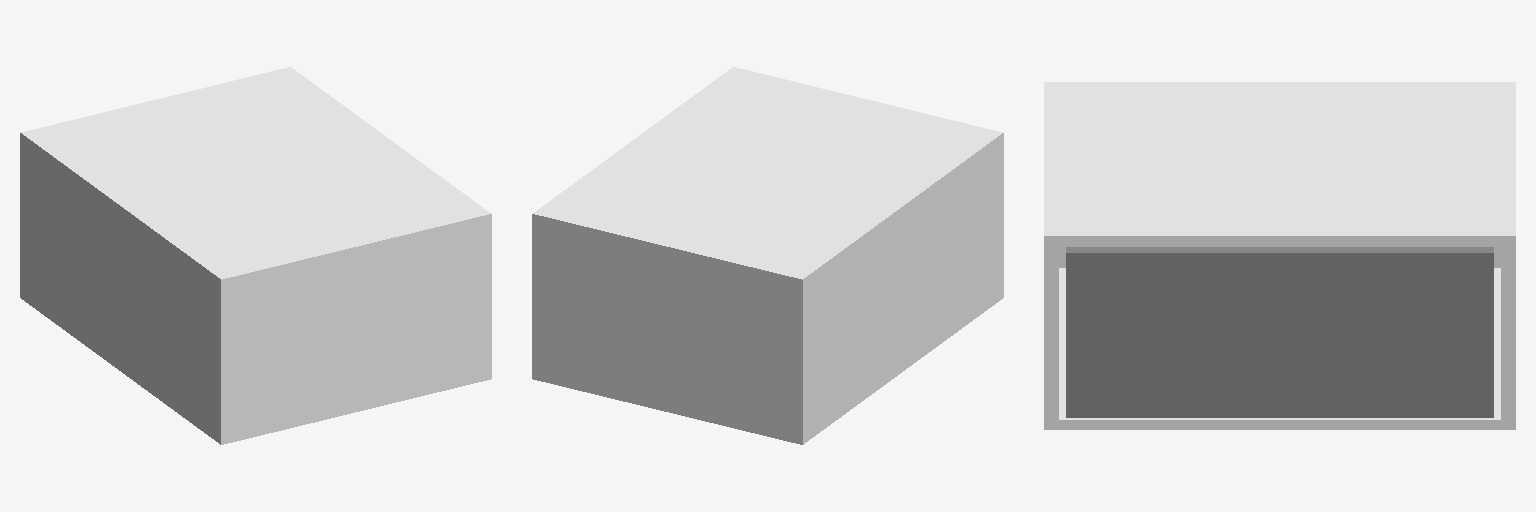
robot.urdf — drawer:
<?xml version='1.0' encoding='UTF-8'?>
<!-- =================================================================================== -->
<!-- |    This document was autogenerated by xacro from drawer_one_sided_handle.xacro  | -->
<!-- |    EDITING THIS FILE BY HAND IS NOT RECOMMENDED                                 | -->
<!-- =================================================================================== -->
<robot xmlns:xacro="http://ros.org/wiki/xacro" name="drawer">
  <!-- Scaled non-uniformly with factors x=0.3, y=0.6, z=0.5; box sizes, origins, prismatic travel, masses, and inertias updated. --><material name="omni/Blue">
    <color rgba="0 0 0.8 1"/>
  </material>
  <material name="omni/Red">
    <color rgba="1 0 0 1"/>
  </material>
  <material name="omni/White">
    <color rgba="1 1 1 1"/>
  </material>
  <material name="omni/Green">
    <color rgba="0 1 0 1"/>
  </material>
  <material name="omni/Yellow">
    <color rgba="1 1 0 1"/>
  </material>
  <material name="omni/LightGrey">
    <color rgba="0.6 0.6 0.6 1"/>
  </material>
  <material name="omni/DarkGrey">
    <color rgba="0.4 0.4 0.4 1"/>
  </material>
  <link name="base_link">    
    </link>
  <link name="drawer">
    <!-- Bottom wall -->
    <visual>
      <origin rpy="0 0 0" xyz="0 0 -0.065"/>
      <geometry>
        <box size="0.3 0.36 0.025"/> 
      </geometry>
      <material name="omni/LightGrey"/>
    </visual>
    <collision>
      <origin rpy="0 0 0" xyz="0 0 -0.065"/>
      <geometry>
        <box size="0.3 0.36 0.025"/>
      </geometry>
    </collision>
    <!-- Right wall -->
    <visual>
      <origin rpy="0 0 0" xyz="0 0.165 0.01125"/>
      <geometry>
        <box size="0.3 0.03 0.1275"/>
      </geometry>
      <material name="omni/LightGrey"/>
    </visual>
    <collision>
      <origin rpy="0 0 0" xyz="0 0.165 0.01125"/>
      <geometry>
        <box size="0.3 0.03 0.1275"/>
      </geometry>
    </collision>
    <!-- Left wall -->
    <visual>
      <origin rpy="0 0 0" xyz="0 -0.165 0.01125"/>
      <geometry>
        <box size="0.3 0.03 0.1275"/>
      </geometry>
      <material name="omni/LightGrey"/>
    </visual>
    <collision>
      <origin rpy="0 0 0" xyz="0 -0.165 0.01125"/>
      <geometry>
        <box size="0.3 0.03 0.1275"/>
      </geometry>
    </collision>
    <!-- Back wall -->
    <visual>
      <origin rpy="0 0 0" xyz="-0.1425 0 0.01125"/>
      <geometry>
        <box size="0.015 0.3 0.1275"/> 
      </geometry>
      <material name="omni/LightGrey"/>
    </visual>
    <collision>
      <origin rpy="0 0 0" xyz="-0.1425 0 0.01125"/>
      <geometry>
        <box size="0.015 0.3 0.1275"/> 
      </geometry>
    </collision>
    <!-- Front wall -->
    <visual>
      <origin rpy="0 0 0" xyz="0.1425 0 0.01125"/>
      <geometry>
        <box size="0.015 0.3 0.1275"/> 
      </geometry>
      <material name="omni/LightGrey"/>
    </visual>
    <collision>
      <origin rpy="0 0 0" xyz="0.1425 0 0.01125"/>
      <geometry>
        <box size="0.015 0.3 0.1275"/> 
      </geometry>
    </collision>
    <inertial>
      <origin rpy="0 0 0" xyz="0 0 0"/>
      <mass value="0.4500"/>
      <inertia ixx="0.0085763427" ixy="0.0000000000" ixz="0.0000000000" iyy="0.0056727301" iyz="0.0000000000" izz="0.0118099038"/>
    </inertial>
  </link>
  <joint name="base_drawer_joint" type="prismatic">
    <origin rpy="0 0 0" xyz="0 0 0"/>
    <parent link="base_link"/>
    <child link="drawer"/>
    <dynamics damping="1.0" friction="1.0"/>
    <limit effort="0.1" lower="0" upper="0.3" velocity="10.0"/>
    <axis xyz="1 0 0"/>
  </joint>
  <link name="left_wall">
    <visual>
      <origin rpy="0 0 0" xyz="0 0 0"/>
      <geometry>
        <box size="0.303 0.012 0.16"/>
      </geometry>
      <material name="omni/White"/>
    </visual>
    <collision>
      <origin rpy="0 0 0" xyz="0 0 0"/>
      <geometry>
        <box size="0.303 0.012 0.16"/>
      </geometry>
    </collision>
    <inertial>
      <!-- CENTER OF MASS -->
      <origin rpy="0 0 0" xyz="0 0 0"/>
      <mass value="0.2250"/>
      <!-- box inertia: 1/12*m(y^2+z^2), ... -->
      <inertia ixx="0.0004827000" ixy="0.0000000000" ixz="0.0000000000" iyy="0.0022014187" iyz="0.0000000000" izz="0.0017241188"/>
    </inertial>
  </link>
  <joint name="b_2_lw" type="fixed">
    <origin rpy="0 0 0" xyz="-0.003 -0.192 0"/>
    <parent link="base_link"/>
    <child link="left_wall"/>
  </joint>
  <link name="right_wall">
    <visual>
      <origin rpy="0 0 0" xyz="0 0 0"/>
      <geometry>
        <box size="0.303 0.012 0.16"/>
      </geometry>
      <material name="omni/White"/>
    </visual>
    <collision>
      <origin rpy="0 0 0" xyz="0 0 0"/>
      <geometry>
        <box size="0.303 0.012 0.16"/>
      </geometry>
    </collision>
    <inertial>
      <!-- CENTER OF MASS -->
      <origin rpy="0 0 0" xyz="0 0 0"/>
      <mass value="0.2250"/>
      <!-- box inertia: 1/12*m(y^2+z^2), ... -->
      <inertia ixx="0.0004827000" ixy="0.0000000000" ixz="0.0000000000" iyy="0.0022014187" iyz="0.0000000000" izz="0.0017241188"/>
    </inertial>
  </link>
  <joint name="b_2_rw" type="fixed">
    <origin rpy="0 0 0" xyz="-0.003 0.192 0"/>
    <parent link="base_link"/>
    <child link="right_wall"/>
  </joint>
  <link name="bottom_wall">
    <visual>
      <origin rpy="0 0 0" xyz="0 0 0"/>
      <geometry>
        <box size="0.303 0.396 0.01"/>
      </geometry>
      <material name="omni/White"/>
    </visual>
    <collision>
      <origin rpy="0 0 0" xyz="0 0 0"/>
      <geometry>
        <box size="0.303 0.396 0.01"/>
      </geometry>
    </collision>
    <inertial>
      <!-- CENTER OF MASS -->
      <origin rpy="0 0 0" xyz="0 0 0"/>
      <mass value="0.2250"/>
      <!-- box inertia: 1/12*m(y^2+z^2), ... -->
      <inertia ixx="0.0029421750" ixy="0.0000000000" ixz="0.0000000000" iyy="0.0017232938" iyz="0.0000000000" izz="0.0046617188"/>
    </inertial>
  </link>
  <joint name="b_2_bw" type="fixed">
    <origin rpy="0 0 0" xyz="-0.003 0 -0.085"/>
    <parent link="base_link"/>
    <child link="bottom_wall"/>
  </joint>
  <link name="top_wall">
    <visual>
      <origin rpy="0 0 0" xyz="0 0 0"/>
      <geometry>
        <box size="0.303 0.396 0.01"/>
      </geometry>
      <material name="omni/White"/>
    </visual>
    <collision>
      <origin rpy="0 0 0" xyz="0 0 0"/>
      <geometry>
        <box size="0.303 0.396 0.01"/>
      </geometry>
    </collision>
    <inertial>
      <!-- CENTER OF MASS -->
      <origin rpy="0 0 0" xyz="0 0 0"/>
      <mass value="0.2250"/>
      <!-- box inertia: 1/12*m(y^2+z^2), ... -->
      <inertia ixx="0.0029421750" ixy="0.0000000000" ixz="0.0000000000" iyy="0.0017232938" iyz="0.0000000000" izz="0.0046617188"/>
    </inertial>
  </link>
  <joint name="b_2_tw" type="fixed">
    <origin rpy="0 0 0" xyz="-0.003 0 0.085"/>
    <parent link="base_link"/>
    <child link="top_wall"/>
  </joint>
  <link name="back_wall">
    <visual>
      <origin rpy="0 0 0" xyz="0 0 0"/>
      <geometry>
        <box size="0.006 0.396 0.18"/>
      </geometry>
      <material name="omni/White"/>
    </visual>
    <collision>
      <origin rpy="0 0 0" xyz="0 0 0"/>
      <geometry>
        <box size="0.006 0.396 0.18"/>
      </geometry>
    </collision>
    <inertial>
      <!-- CENTER OF MASS -->
      <origin rpy="0 0 0" xyz="0 0 0"/>
      <mass value="0.2250"/>
      <!-- box inertia: 1/12*m(y^2+z^2), ... -->
      <inertia ixx="0.0035478000" ixy="0.0000000000" ixz="0.0000000000" iyy="0.0006081750" iyz="0.0000000000" izz="0.0029409750"/>
    </inertial>
  </link>
  <joint name="b_2_backw" type="fixed">
    <origin rpy="0 0 0" xyz="-0.156 0 0"/>
    <parent link="base_link"/>
    <child link="back_wall"/>
  </joint>
  

</robot>

--- Facts derived from the render (not from the file) ---
The picture shows the robot from 3 angles, left to right: view 1: azimuth 30°, elevation 25°; view 2: azimuth 150°, elevation 25°; view 3: azimuth 270°, elevation 25°; orthographic projection.
Robot: drawer — 7 links, 6 joints (1 prismatic, 5 fixed); root link base_link; default pose: all joints at 0.
Links seen in each view (by area): view 1: top_wall, left_wall, back_wall, bottom_wall; view 2: top_wall, right_wall, back_wall, bottom_wall; view 3: top_wall, drawer, bottom_wall, left_wall, right_wall, back_wall.
Boxes of the visible links, <box> form: top_wall: <box>25,67,491,287</box>; left_wall: <box>225,223,491,434</box>; back_wall: <box>20,132,226,444</box>; bottom_wall: <box>225,370,491,443</box>; top_wall: <box>532,67,998,287</box>; right_wall: <box>532,223,798,434</box>; back_wall: <box>797,131,1003,444</box>; bottom_wall: <box>532,370,798,443</box>; top_wall: <box>1044,84,1515,246</box>; drawer: <box>1066,247,1493,417</box>; bottom_wall: <box>1044,268,1515,429</box>; left_wall: <box>1044,247,1058,419</box>; right_wall: <box>1501,247,1515,419</box>; back_wall: <box>1044,82,1515,267</box>.
Bounding box of the posed robot: 0.309 × 0.396 × 0.18 m (x, y, z).
Geometry: primitives only (box / cylinder / sphere), no mesh files.
